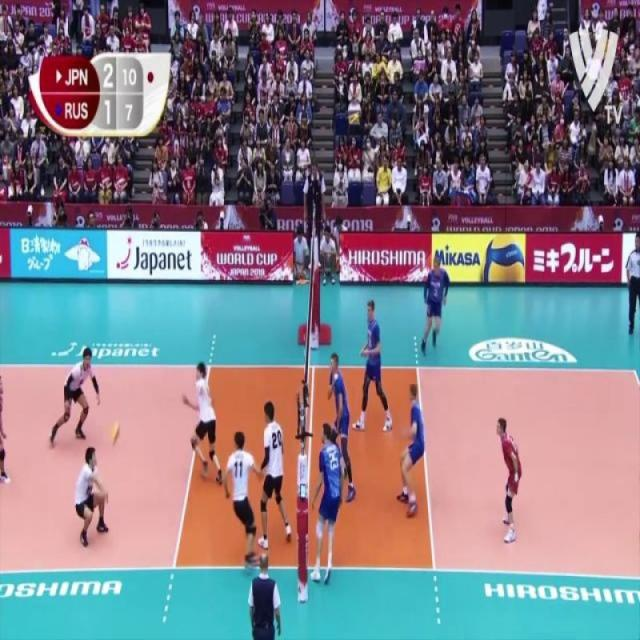volleyball: (481, 233, 525, 283), (110, 420, 122, 448)
